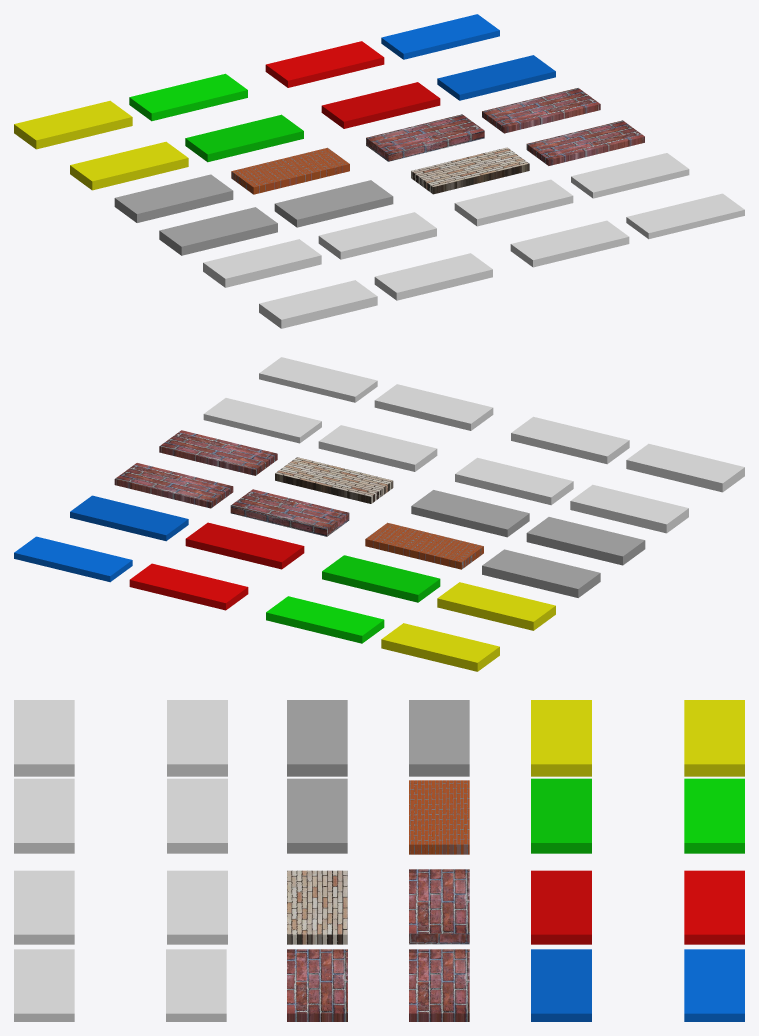
Rendered from stage.fbx.
3 views of the same model, one above another, from view 1: azimuth 30°, elevation 25°; view 2: azimuth 150°, elevation 25°; view 3: azimuth 270°, elevation 25° (orthographic). The views are drawn at different scales.
Visible parts, largest first — view 1: pasted__pasted__pPlane1 (×12), pasted__pPlane1 (×7), pasted__pasted__pasted__pPlane1 (×3), pPlane1, pasted__pasted__pasted__pasted__pPlane1; view 2: pasted__pasted__pPlane1 (×12), pasted__pPlane1 (×7), pasted__pasted__pasted__pPlane1 (×3), pPlane1, pasted__pasted__pasted__pasted__pPlane1; view 3: pasted__pasted__pPlane1 (×12), pasted__pPlane1 (×7), pasted__pasted__pasted__pPlane1 (×3), pPlane1, pasted__pasted__pasted__pasted__pPlane1.
Part boxes in pixels (x1=…): pasted__pasted__pPlane1 (×12): x1=129, y1=14, x2=600, y2=259; pasted__pPlane1 (×7): x1=14, y1=100, x2=744, y2=300; pasted__pasted__pasted__pPlane1 (×3): x1=274, y1=120, x2=644, y2=227; pPlane1: x1=259, y1=280, x2=377, y2=328; pasted__pasted__pasted__pasted__pPlane1: x1=571, y1=153, x2=689, y2=198; pasted__pasted__pPlane1 (×12): x1=14, y1=425, x2=645, y2=643; pasted__pPlane1 (×7): x1=259, y1=357, x2=688, y2=671; pasted__pasted__pasted__pPlane1 (×3): x1=159, y1=430, x2=529, y2=537; pPlane1: x1=626, y1=443, x2=744, y2=492; pasted__pasted__pasted__pasted__pPlane1: x1=203, y1=398, x2=321, y2=443; pasted__pasted__pPlane1 (×12): x1=167, y1=700, x2=744, y2=1021; pasted__pPlane1 (×7): x1=14, y1=700, x2=744, y2=1021; pasted__pasted__pasted__pPlane1 (×3): x1=287, y1=778, x2=347, y2=1021; pPlane1: x1=14, y1=700, x2=74, y2=776; pasted__pasted__pasted__pasted__pPlane1: x1=166, y1=949, x2=226, y2=1021.
Bounding box in the file's own units: 24.07 × 0.45 × 24.04.
25 materials, 4 textured.
